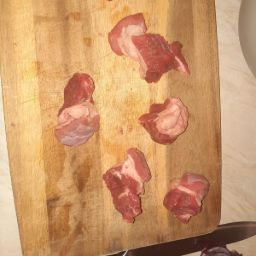Chicken Strips: (15, 6, 218, 237), (92, 8, 196, 91), (85, 141, 157, 225), (45, 62, 105, 160), (128, 88, 204, 150), (168, 163, 215, 228)
